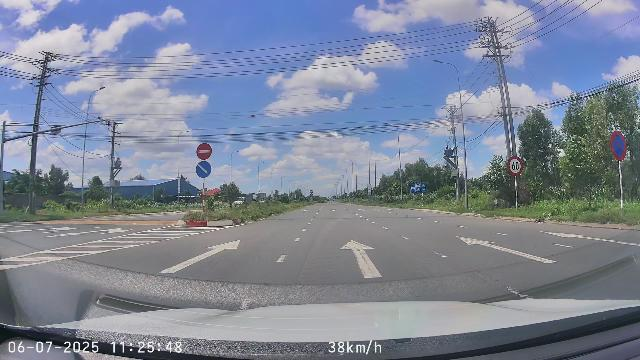102-cam-di-nguoc-chieu: (196, 142, 212, 160)
127-toc-do-toi-da-60: (507, 156, 523, 176)
131a-cam-do-xe: (610, 130, 626, 160)
302a-huong-phai-di-vong-chuong-ngai-vat-1: (195, 161, 212, 178)
